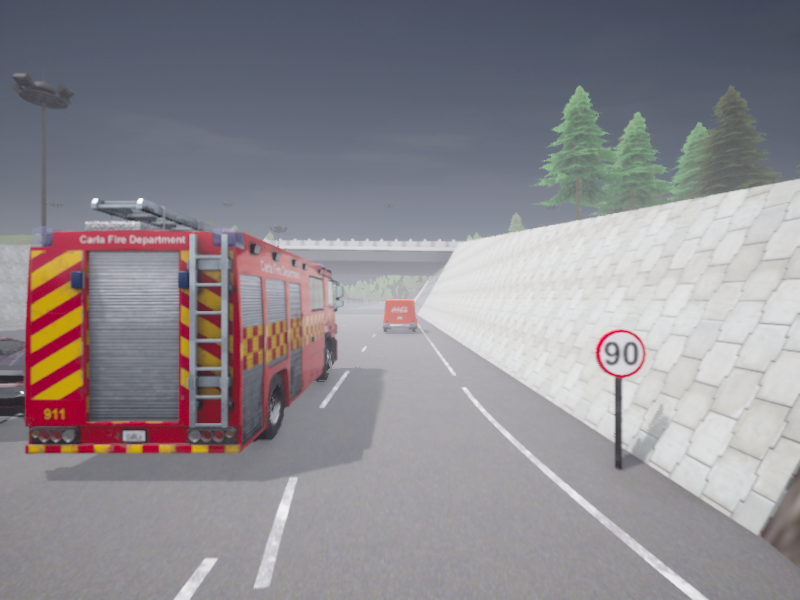vehicle: (25, 199, 343, 453), (0, 349, 25, 423), (383, 299, 416, 331), (0, 337, 24, 358)
